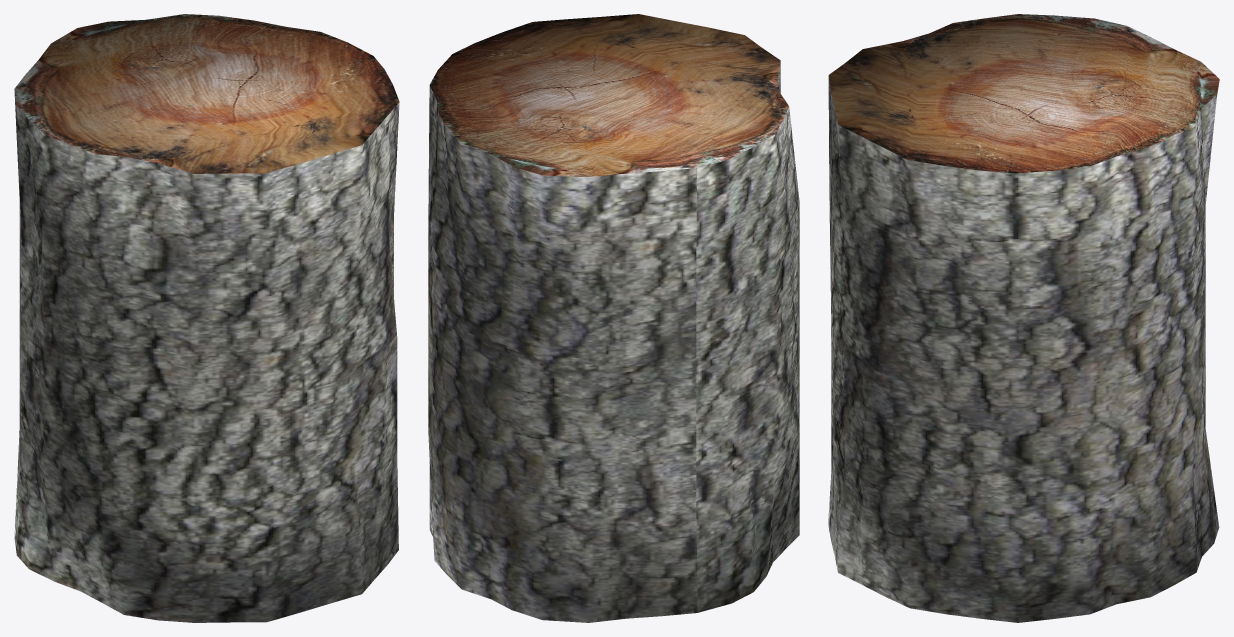
File: Baumstamm.fbx
3 renders of one model, left to right at view 1: azimuth 30°, elevation 25°; view 2: azimuth 150°, elevation 25°; view 3: azimuth 270°, elevation 25°, orthographic.
Parts seen in each view (by area): view 1: Baumstamm; view 2: Baumstamm; view 3: Baumstamm.
Part boxes in pixels (box(x1,y1,x2,y2)): Baumstamm: box(14, 14, 399, 622); Baumstamm: box(428, 14, 799, 622); Baumstamm: box(828, 14, 1219, 622).
Size of the model in its own units: 204 by 264 by 209.
1 material, 1 textured.
